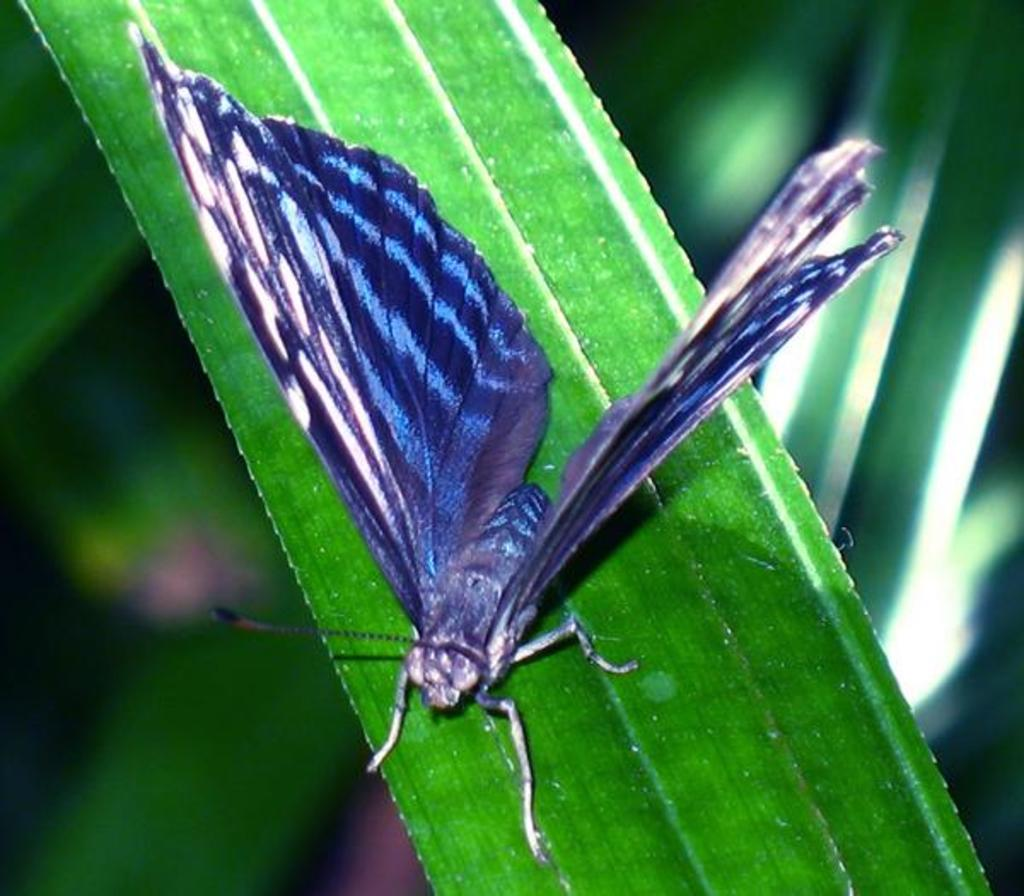Butterfly: (115, 26, 921, 820)
